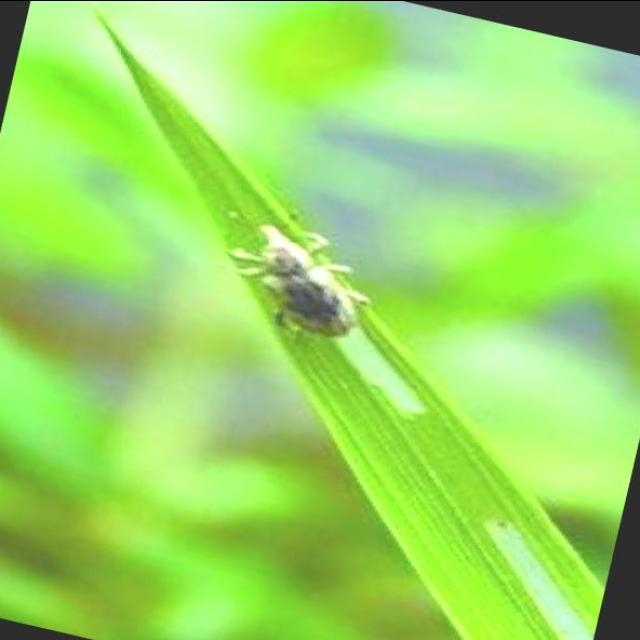ricebug: (228, 223, 368, 336)
